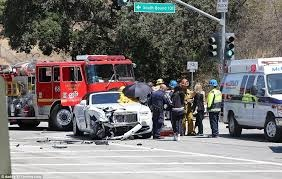Smashed: (87, 106, 143, 136)
